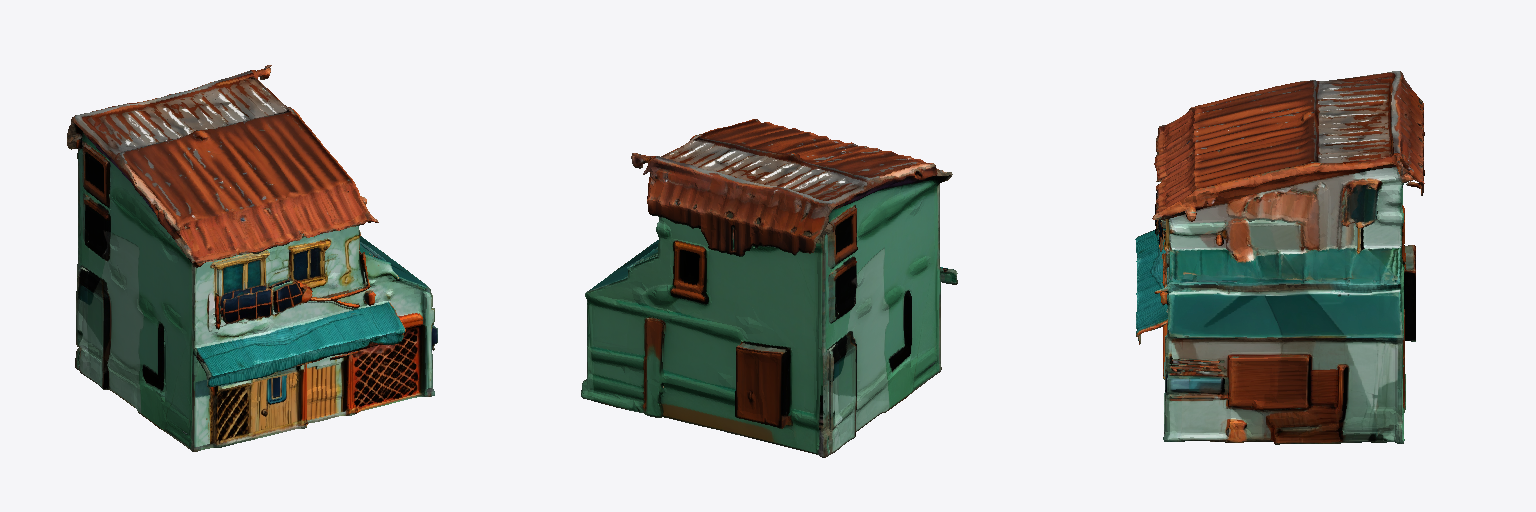
The picture shows the model from 3 angles: view 1: azimuth 30°, elevation 25°; view 2: azimuth 150°, elevation 25°; view 3: azimuth 270°, elevation 25°; orthographic projection.
Parts seen in each view (by area): view 1: Mesh_0; view 2: Mesh_0; view 3: Mesh_0.
Boxes of the visible parts, <box> form: Mesh_0: <box>67,65,437,451</box>; Mesh_0: <box>581,119,957,457</box>; Mesh_0: <box>1135,71,1424,444</box>.
Bounding box in the file's own units: 1.96 × 1.92 × 1.94.
Materials: 1 (1 with a texture image).